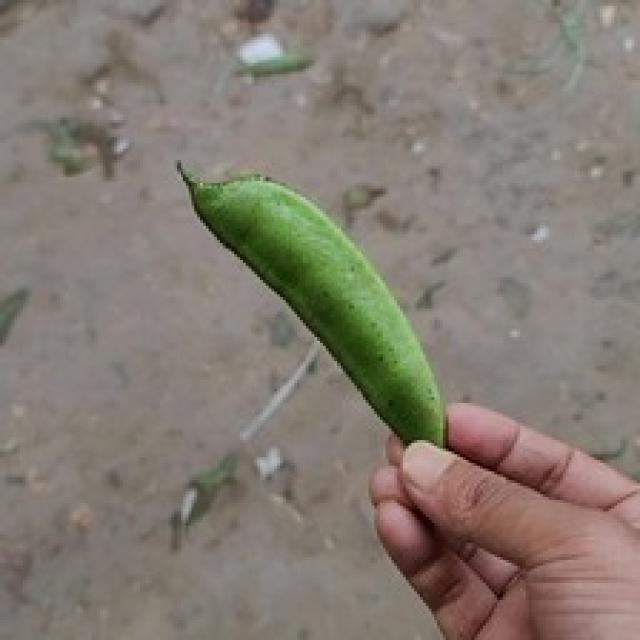Bean: (174, 157, 449, 449)
